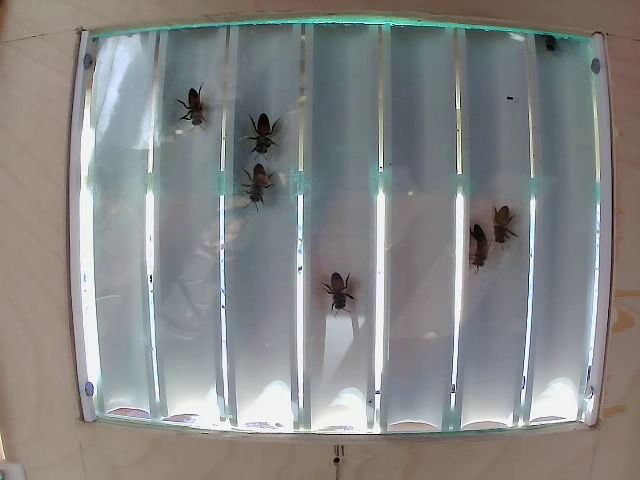bee: (245, 169, 290, 220), (173, 82, 214, 136), (456, 227, 492, 280), (242, 118, 288, 155), (316, 266, 357, 303), (489, 203, 517, 249)
